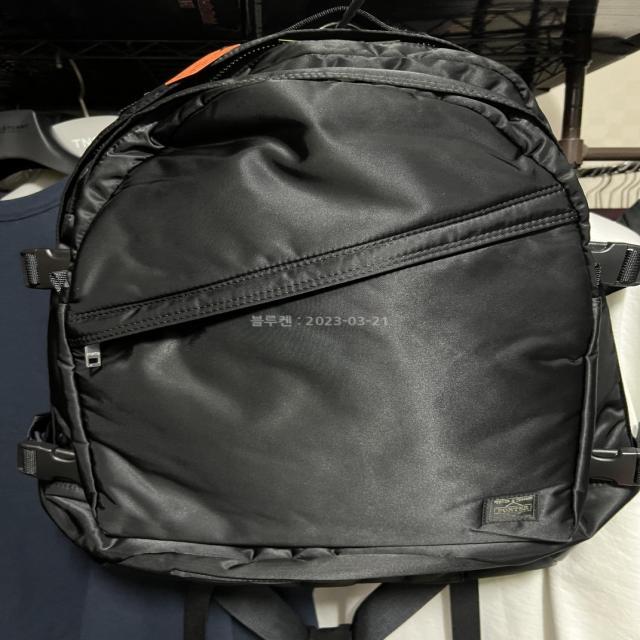backpack: (30, 20, 638, 597)
